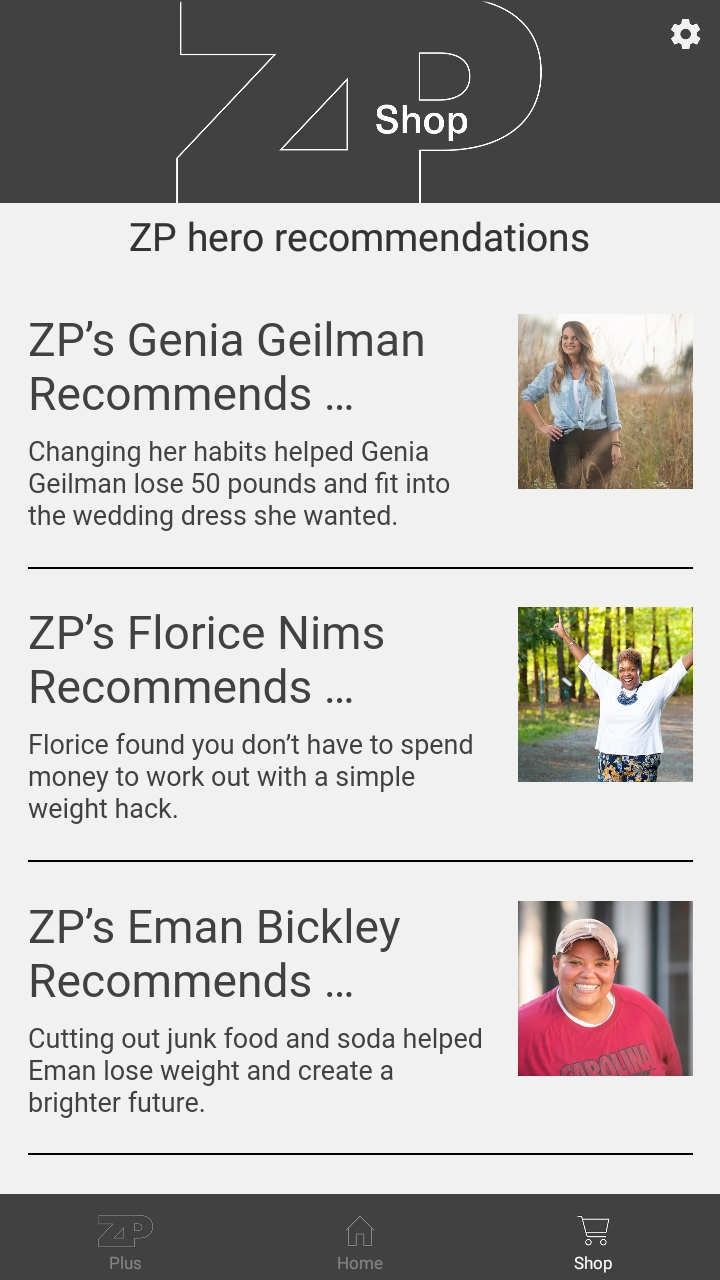Icon: (577, 1216, 609, 1245), (346, 1216, 376, 1246), (671, 20, 700, 50)
Image: (177, 1, 542, 204), (518, 901, 693, 1076), (518, 607, 693, 782), (518, 315, 693, 490), (99, 1215, 154, 1247)
Text: (30, 1024, 482, 1119), (29, 733, 473, 825), (28, 441, 450, 532), (30, 321, 424, 412), (30, 907, 401, 998), (30, 614, 384, 705), (131, 222, 590, 253), (376, 105, 468, 143), (574, 1256, 612, 1273), (339, 1256, 384, 1270), (111, 1256, 142, 1270)
